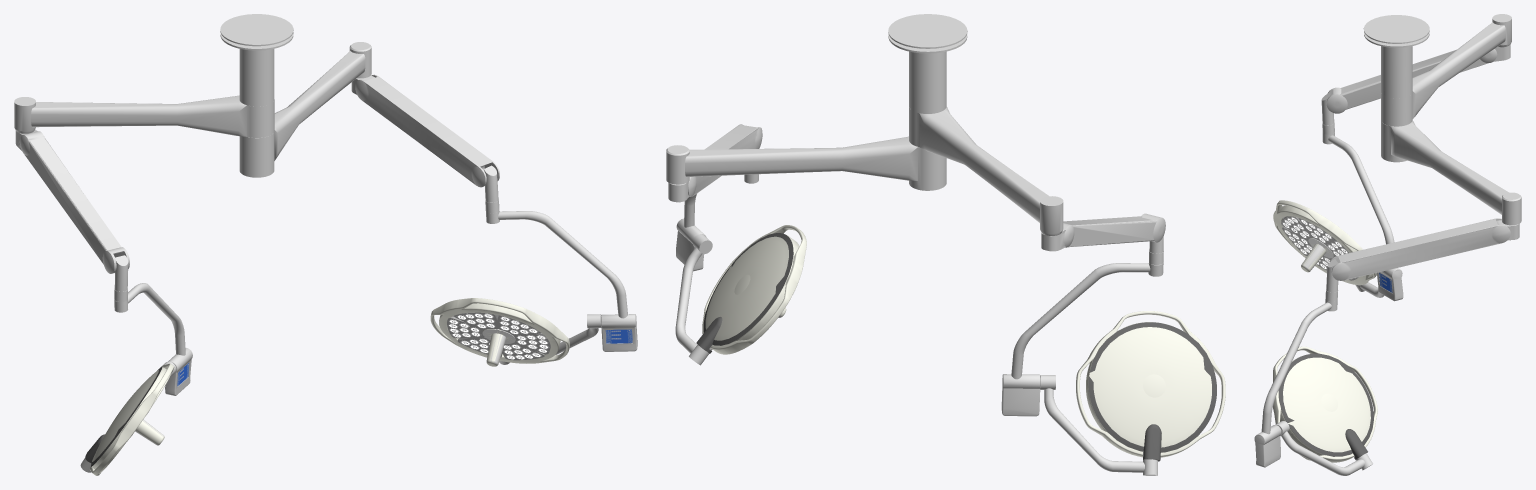
The model's file is MOL2Dual.glb.
The picture shows the model from 3 angles, left to right: view 1: azimuth 30°, elevation 25°; view 2: azimuth 150°, elevation 25°; view 3: azimuth 270°, elevation 25°; orthographic projection. The views are drawn at different scales.
Visible parts, largest first — view 1: Cube.002, Cube.003; view 2: Cube.002; view 3: Cube.002, Cube.001.
Boxes of the visible parts, box(x1,y1,x2,y2) form: Cube.002: box(14, 14, 637, 475); Cube.003: box(447, 312, 550, 360); Cube.002: box(666, 14, 1225, 475); Cube.002: box(1254, 14, 1521, 475); Cube.001: box(1281, 216, 1358, 280).
Size of the model in its own units: 12.31 by 8.6 by 6.06.
Materials: 11 (1 with a texture image).
